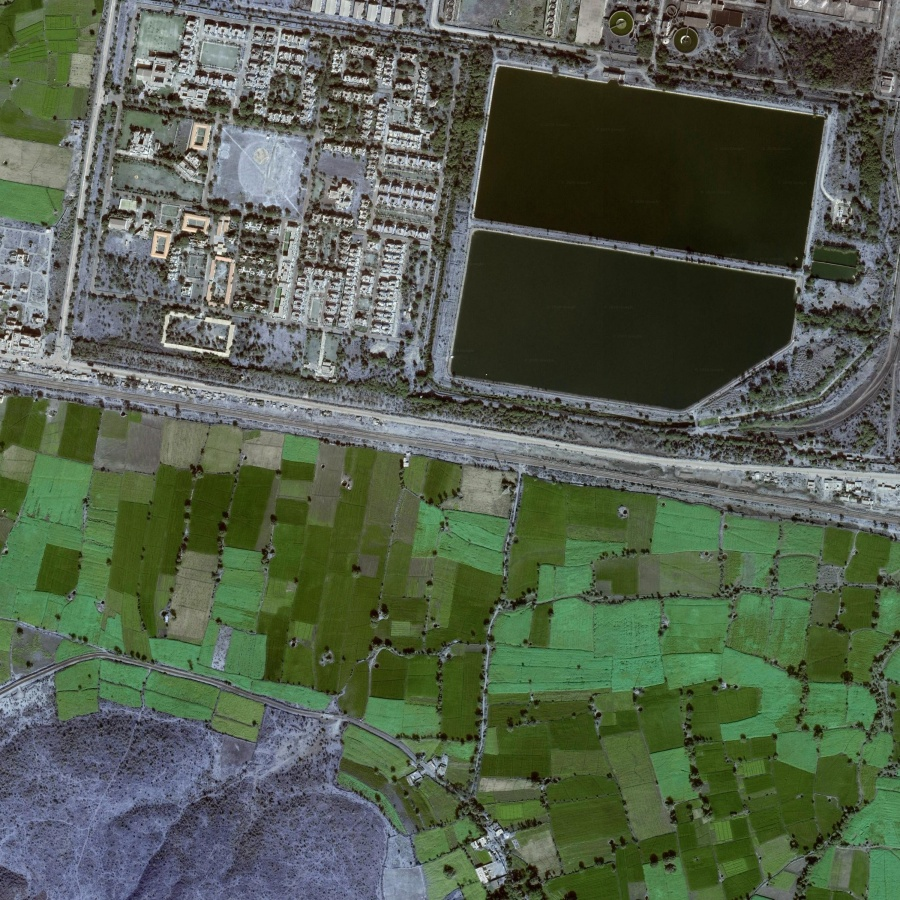PowerPlant: (422, 34, 842, 440)
